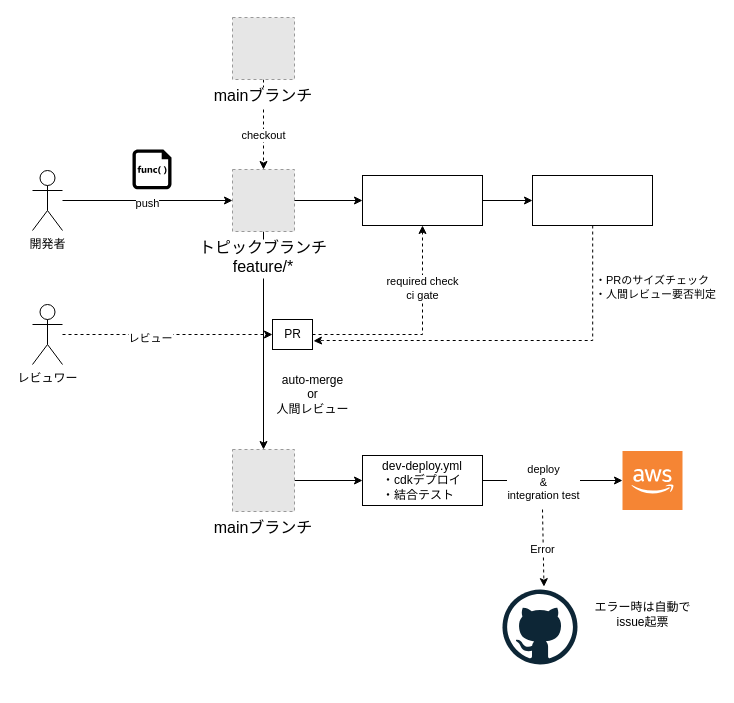
The diagram is 734 pixels wide and 703 high, and some of its shapes have lost their labels. Grey dashed boxes stand in for pictures. Here are the shapes that lost their labels. From the top down, the centre of each, then its label:
(422,200): pipeline.yml CI
(592,200): pr-ai-triage.yml AIによるPRチェック
(652,480): AWS 開発環境
(540,626): GitHub Issue
